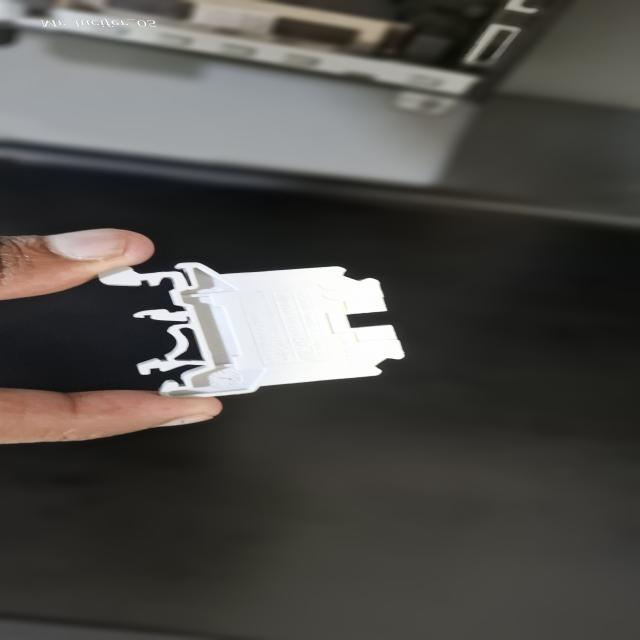Inverted: (74, 253, 412, 407)
